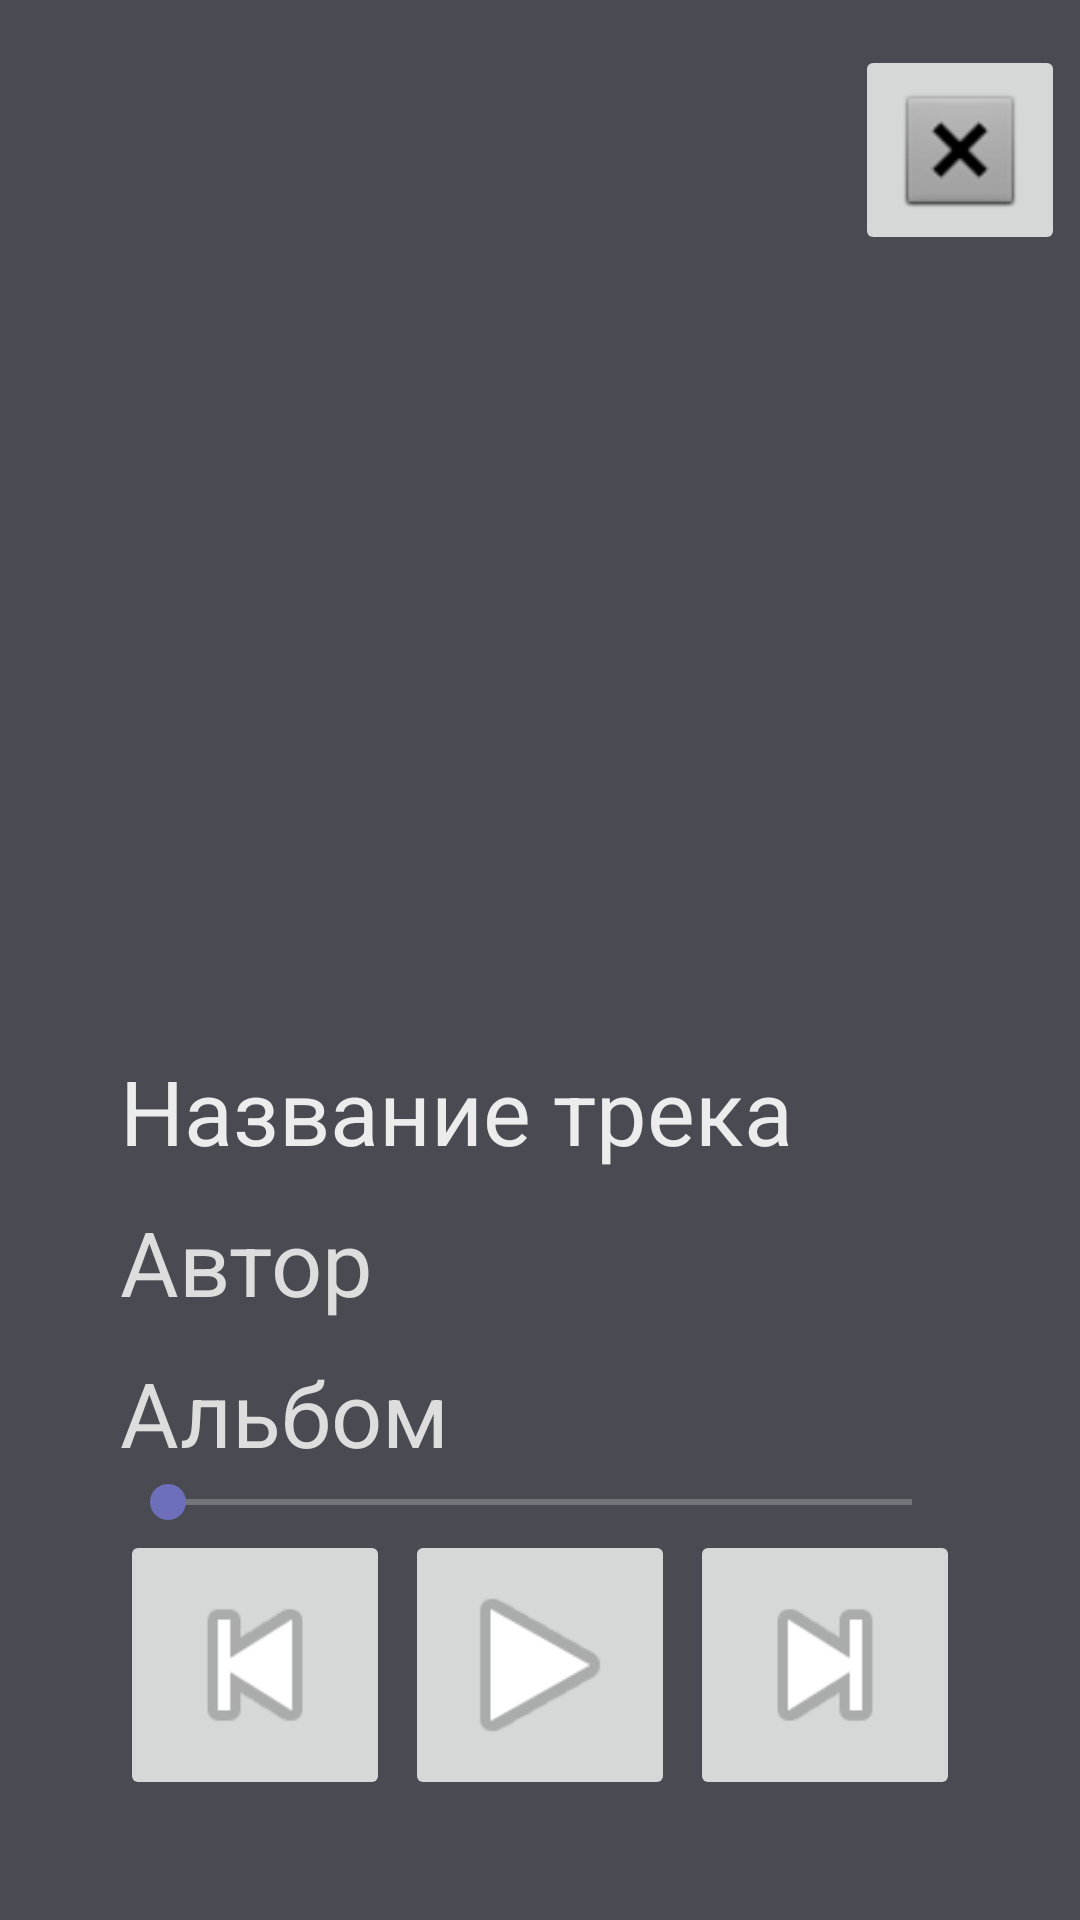

Icons on this 1080 x 1920 Android screen, each with its box as bbox=[x1, y1, x2, y2]:
Выйти из меню: bbox=[867, 63, 1053, 237]
Играть/Поставить на паузу: bbox=[417, 1548, 663, 1782]
Предыдущий трек: bbox=[132, 1548, 378, 1782]
Следующий трек: bbox=[702, 1548, 948, 1782]
